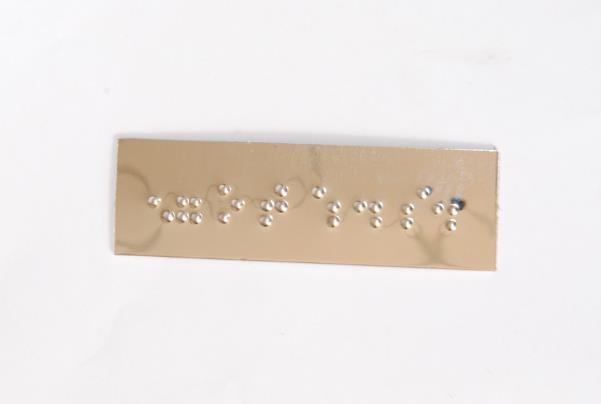Braille: (352, 184, 384, 230), (257, 182, 289, 227), (400, 187, 431, 230), (311, 185, 341, 229), (217, 182, 247, 225), (146, 182, 176, 225), (433, 188, 460, 231), (176, 184, 203, 225)
